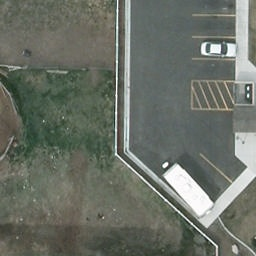camping car: (159, 158, 215, 219)
car: (201, 43, 236, 59)
